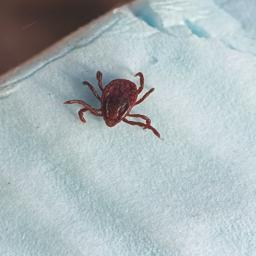Rhipicephalus sanguineus: (63, 70, 162, 139)
